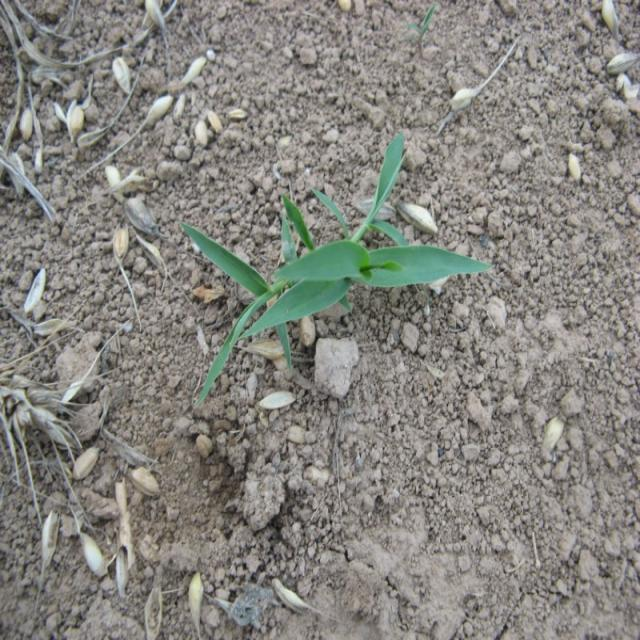bg: (181, 128, 498, 394)
